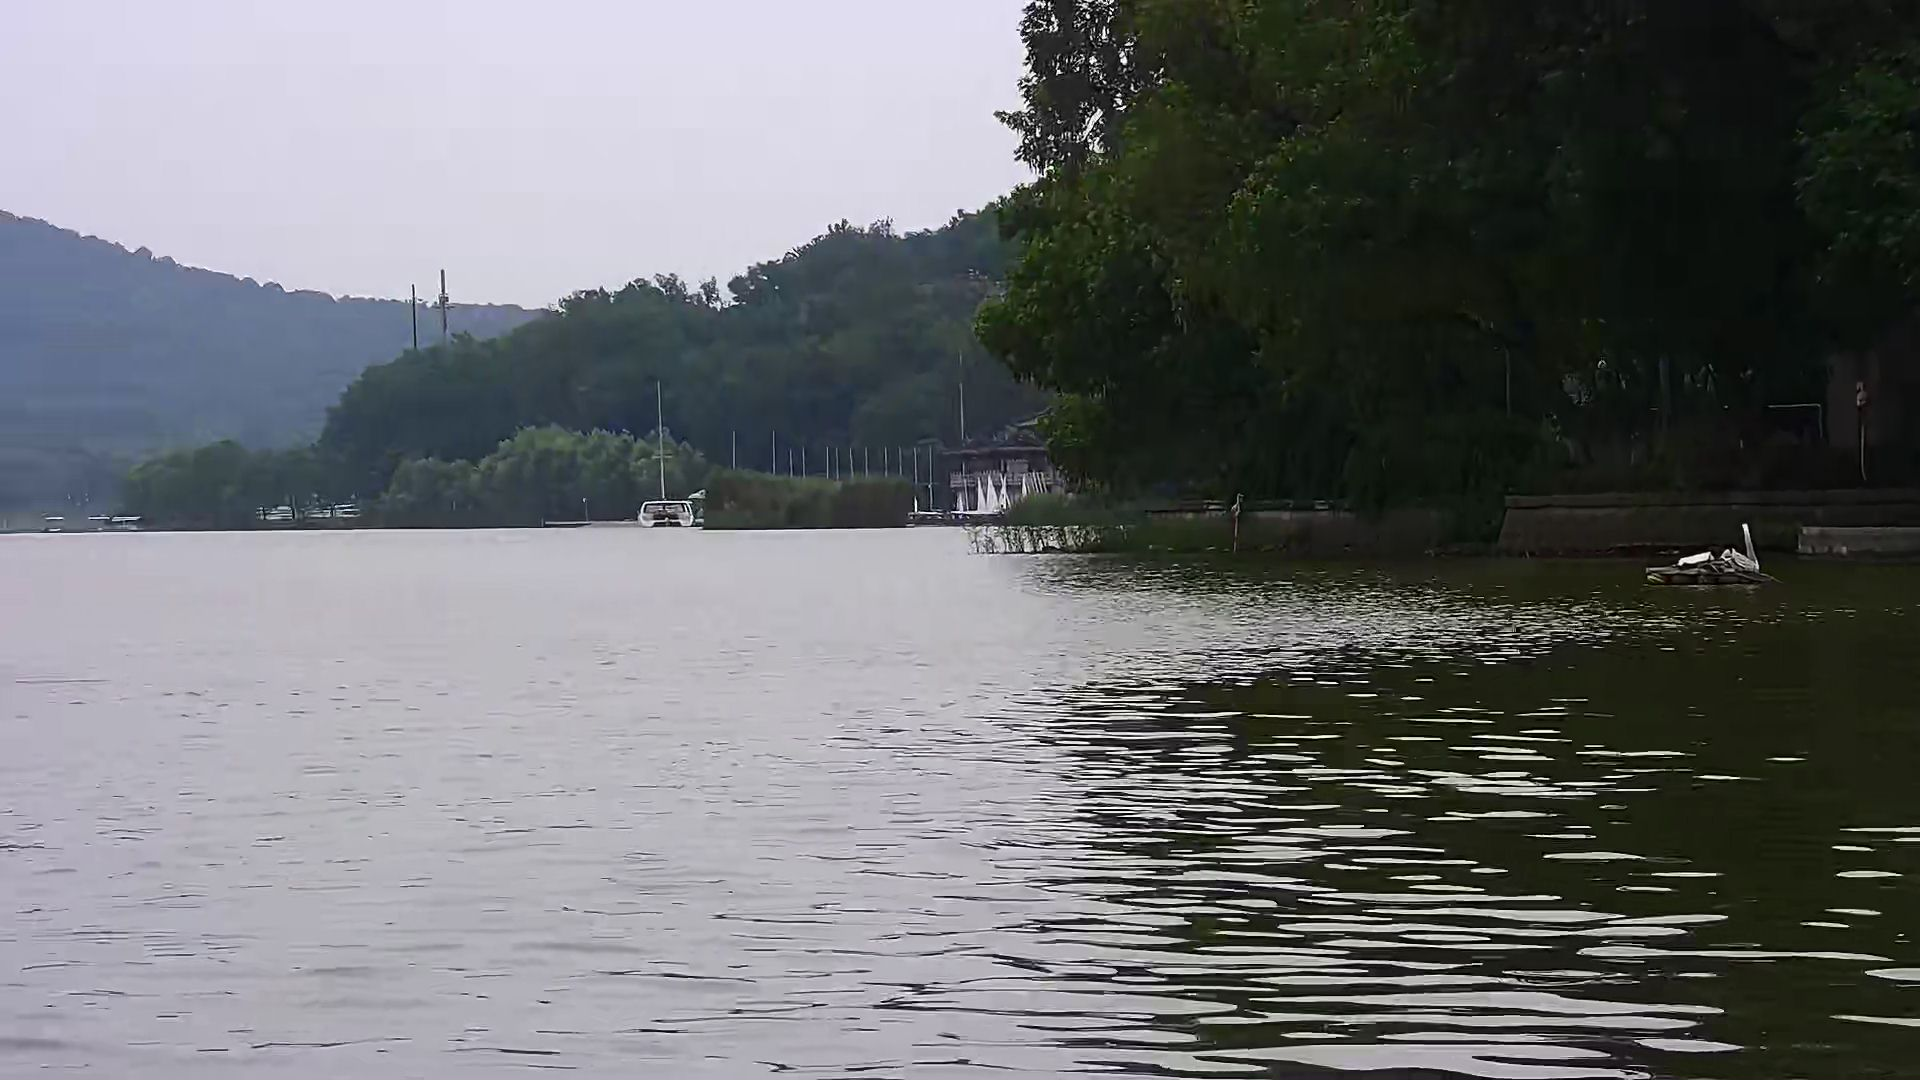boat: (622, 495, 692, 530)
